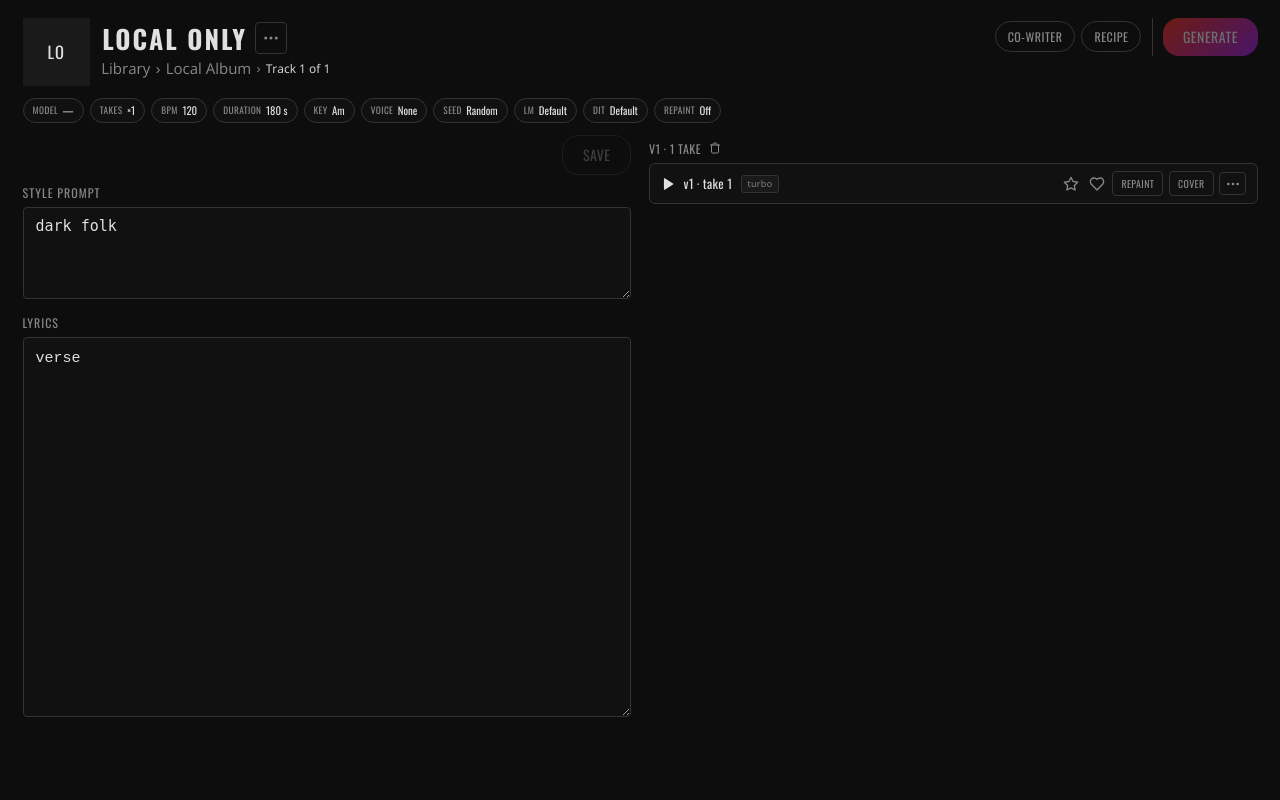
SongDetailView recipe chips read the draft › updates the BPM chip live as the Recipe panel edits it, and marks it changed
This screenshot has width=1280, height=800.
Click the button "Recipe" at (1111, 37), box [1082, 21, 1141, 52]
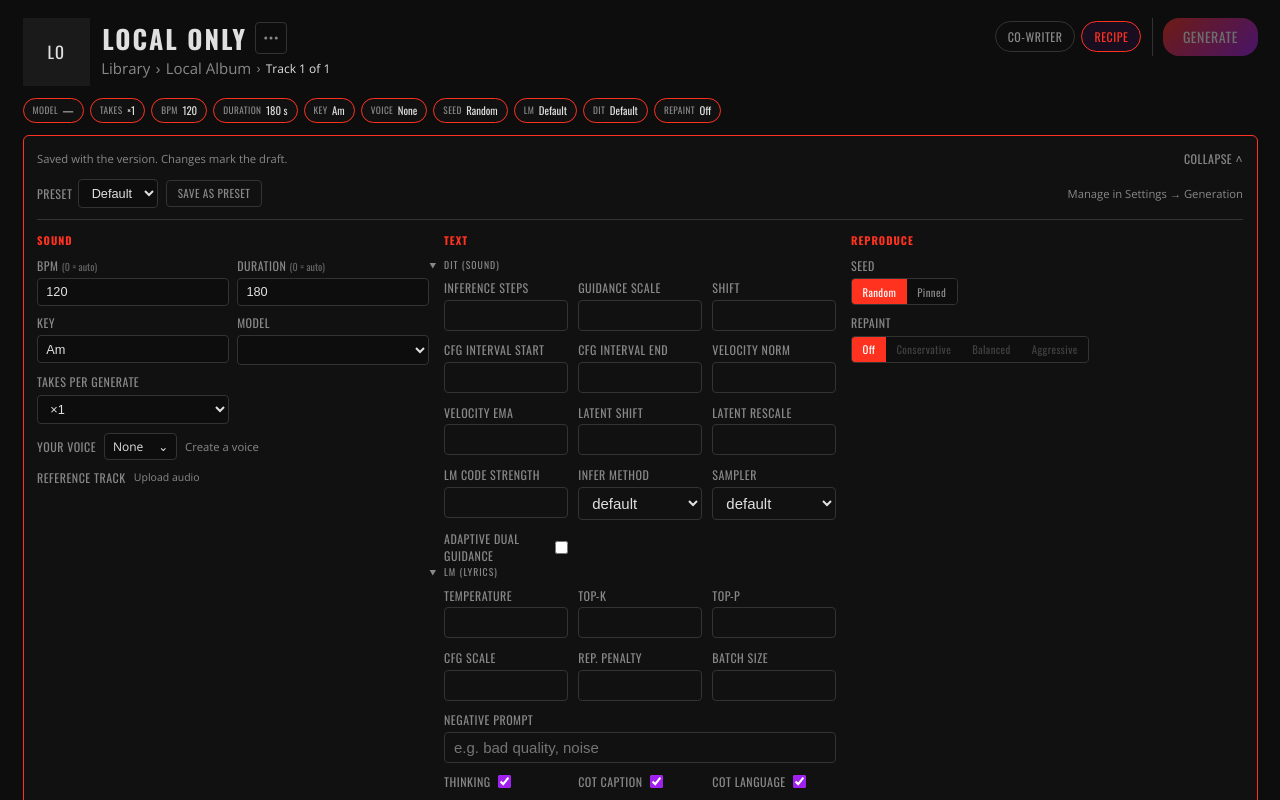
Replace the text in the number field labelled "BPM (0 = auto)" with "140" at (133, 292), box [37, 278, 229, 306]
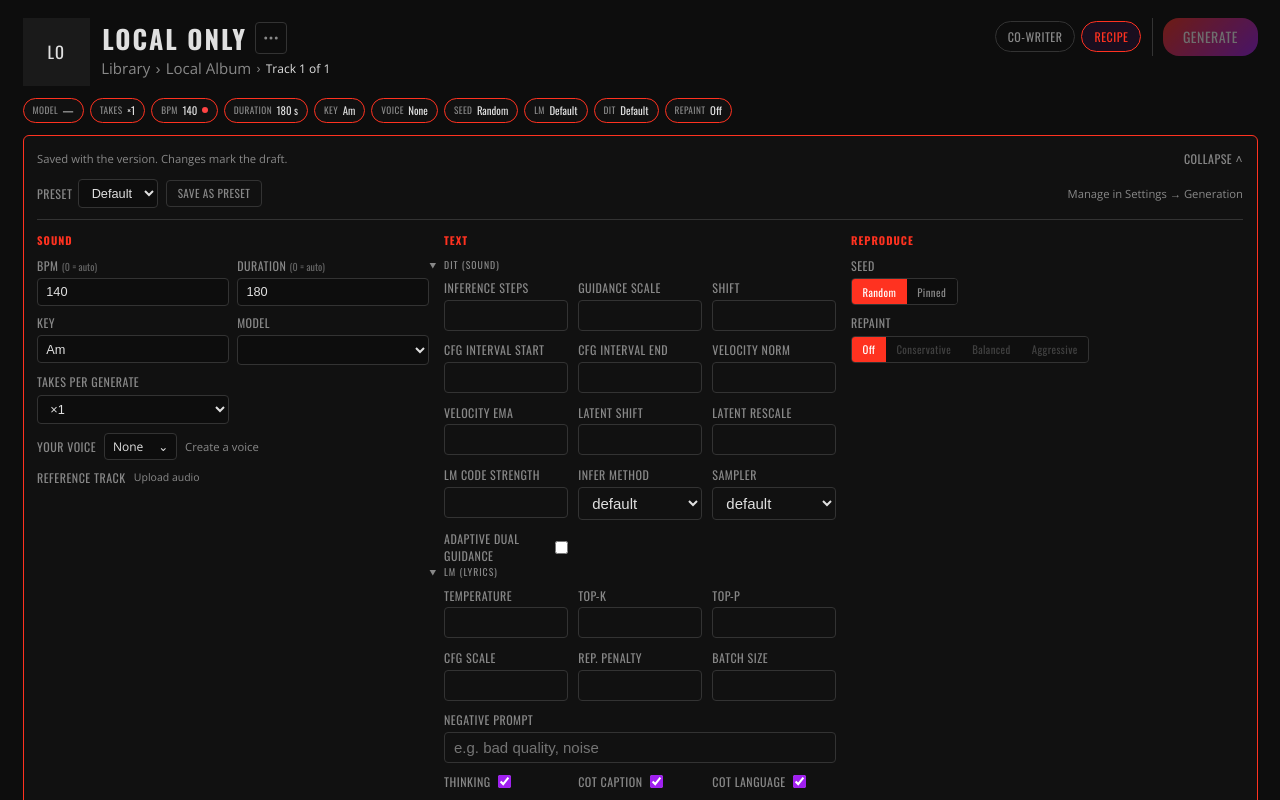
Check: the element with class "chip" shows "140", box [182, 102, 197, 118]
Check: the element with class "chip-changed-dot" is shown, box [202, 107, 208, 113]
